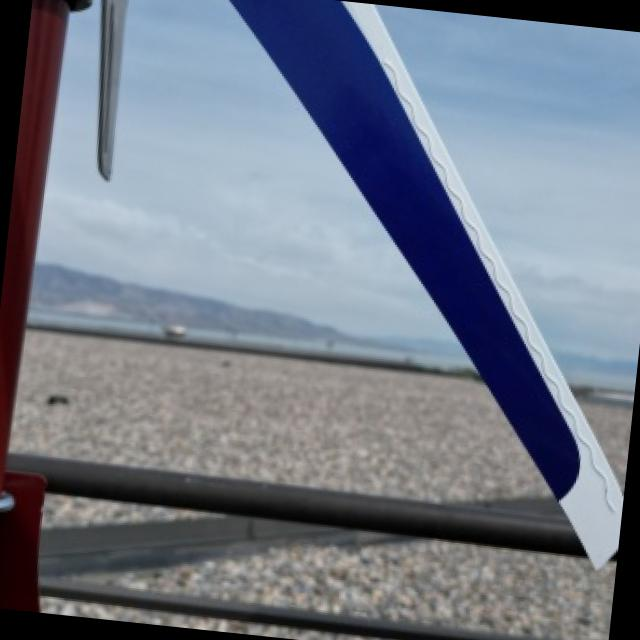healthy: (174, 540, 616, 638)
